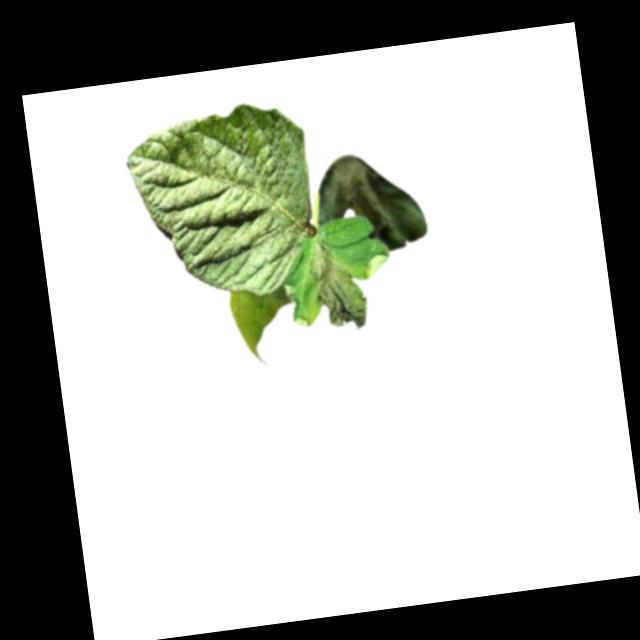Late_blight: (309, 144, 430, 261), (299, 231, 371, 336), (225, 285, 302, 370)
healthy: (117, 95, 325, 311)
